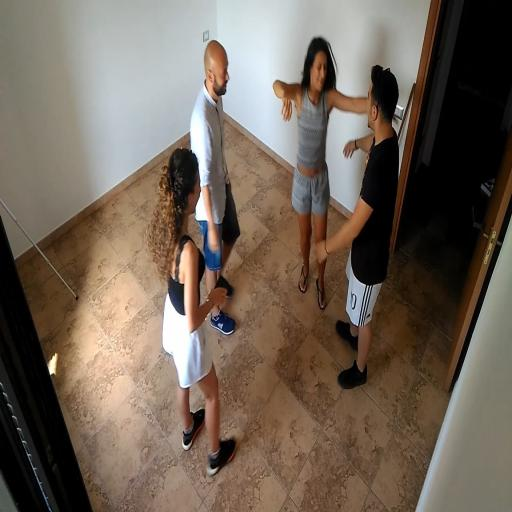nao-violencia: (267, 20, 410, 404)
